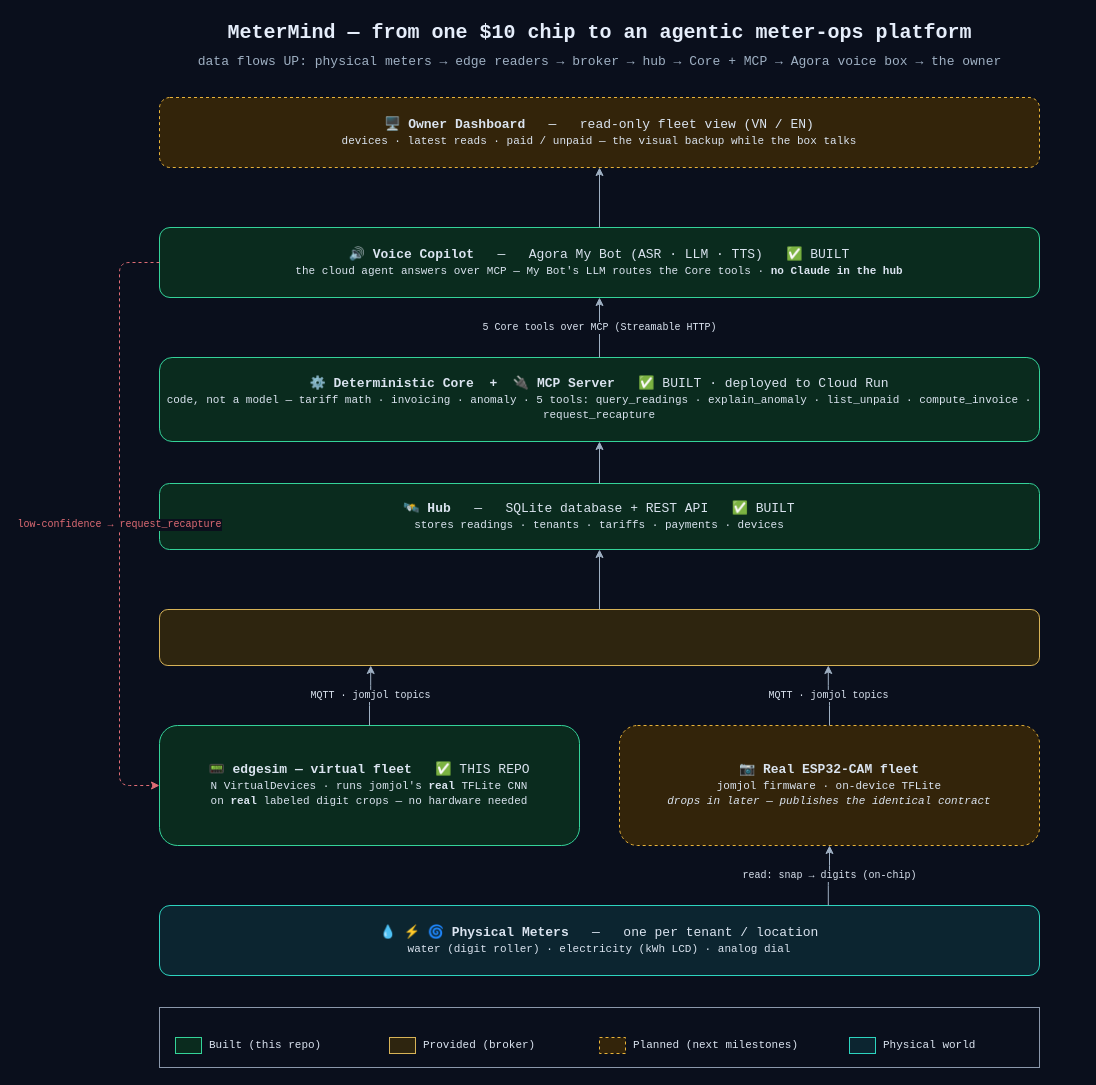
The diagram is 1096 pixels wide and 1085 high, and some of its shapes have lost their labels. The box of each missing label's shape, as (x1, y1, x2, y2) in pixels:
Legend: (158, 1006, 1040, 1068)
📨 MQTT Broker — mosquitto (docker-compose) · the shared message bus: (158, 608, 1040, 666)
